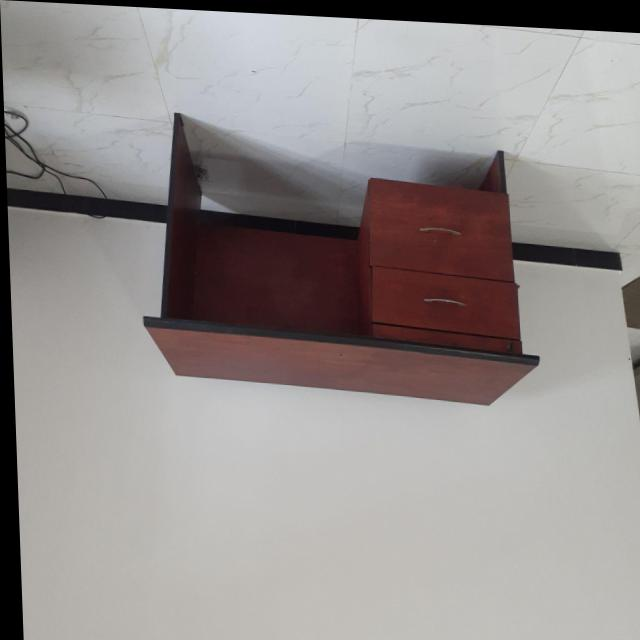Table: (115, 93, 554, 416)
